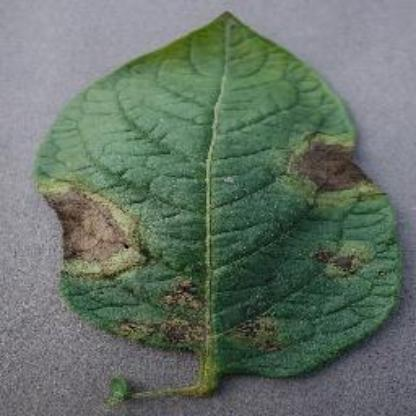Late-Blight: (32, 8, 404, 394)
